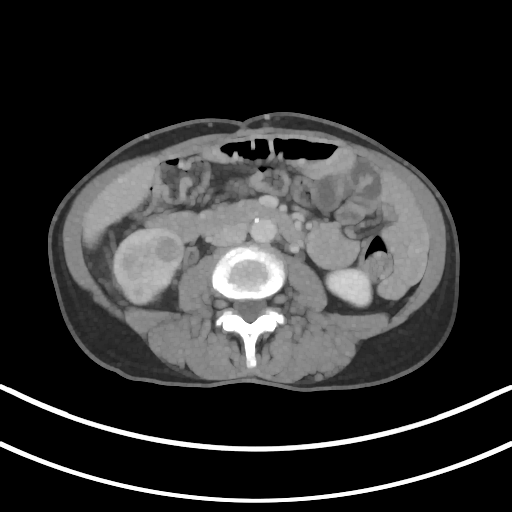Lesion: (151, 235, 184, 263), (124, 282, 151, 306)
